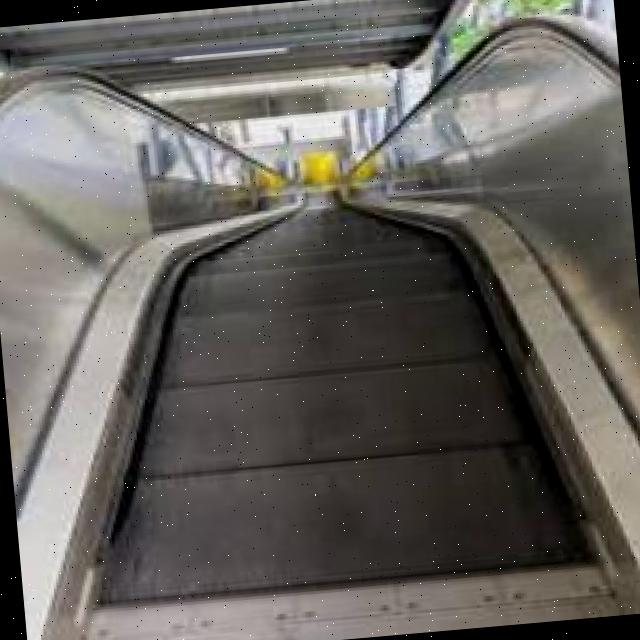stairs: (140, 84, 587, 610)
